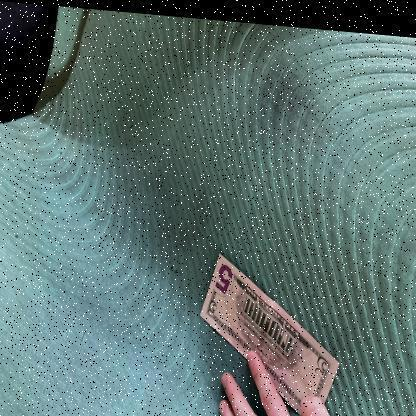five-back: (200, 247, 340, 416)
